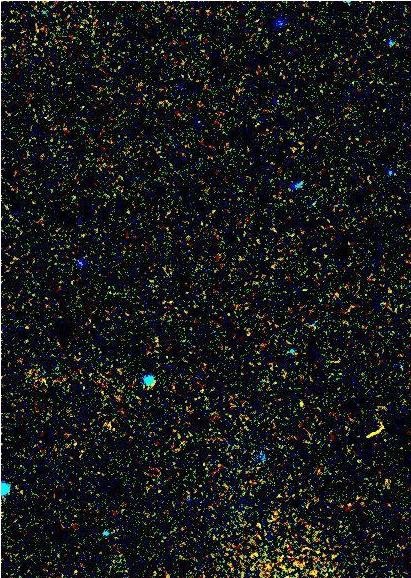star: (304, 187, 334, 217)
